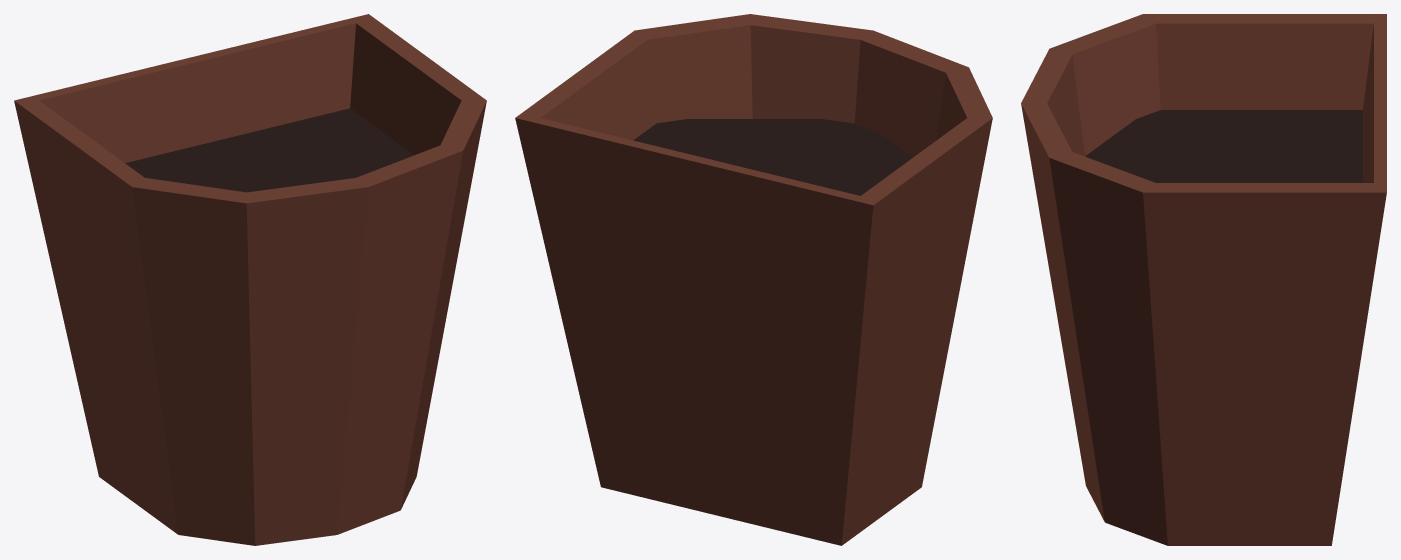
Rendered from MBJ_PlantPack01_Pot05_LOD2_v001.fbx.
The picture shows the model from 3 angles, left to right: view 1: azimuth 30°, elevation 25°; view 2: azimuth 150°, elevation 25°; view 3: azimuth 270°, elevation 25°; orthographic projection. The views are drawn at different scales.
Visible parts, largest first — view 1: PlantPot05_B.001; view 2: PlantPot05_B.001; view 3: PlantPot05_B.001.
Part boxes in pixels (x1,y1,x2,y2): PlantPot05_B.001: (14, 14, 486, 545); PlantPot05_B.001: (515, 14, 992, 545); PlantPot05_B.001: (1021, 14, 1386, 545).
Bounding box in the file's own units: 46.06 × 46.02 × 39.89.
